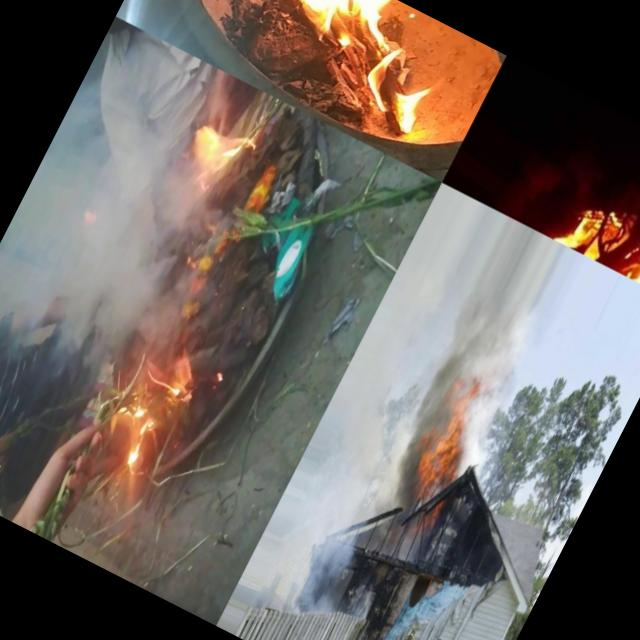fire: (245, 0, 463, 137), (396, 400, 492, 526), (0, 388, 48, 532), (546, 210, 596, 254)
smoke: (0, 36, 236, 521), (80, 79, 276, 401), (329, 290, 500, 515), (271, 474, 384, 620), (66, 16, 158, 134), (461, 328, 530, 422)
